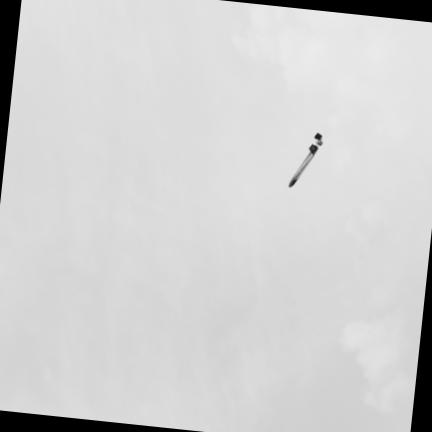Shahed: (290, 130, 326, 186)
